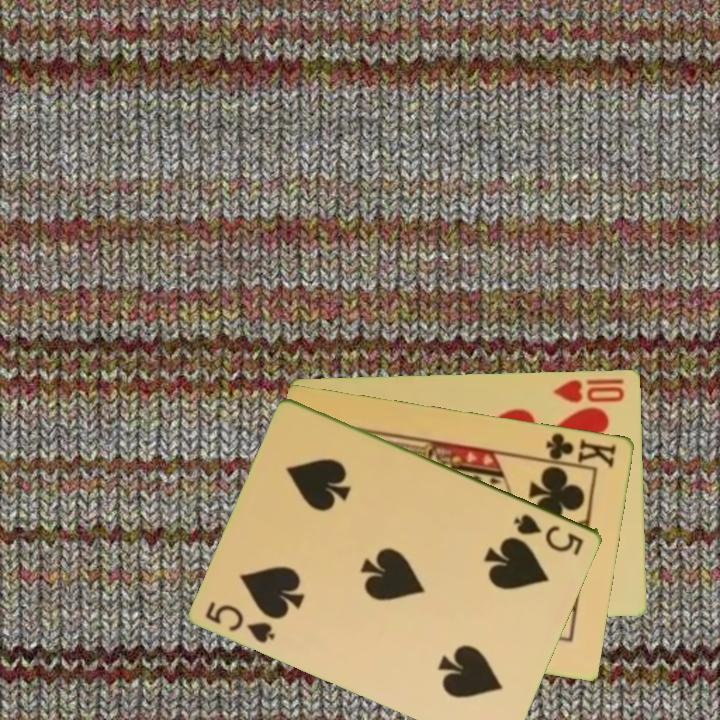10h: (551, 375, 628, 405)
5s: (202, 597, 279, 646), (510, 510, 587, 558)
Kc: (537, 429, 620, 470)
